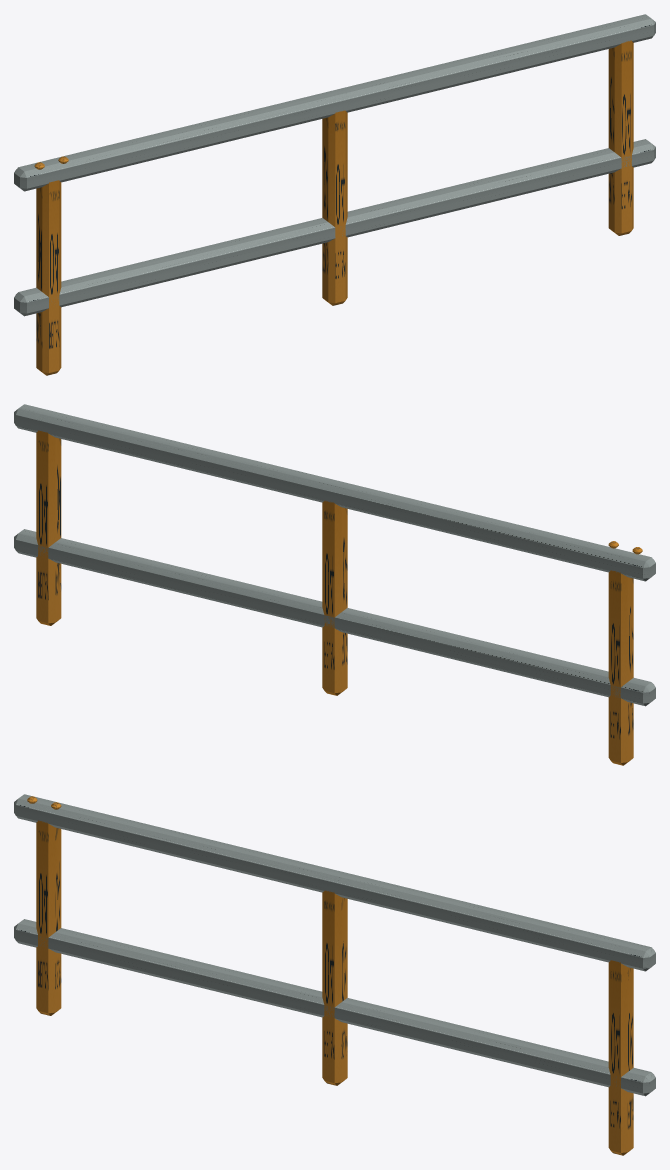
Rendered from railing_4m_LOD0.obj.
The picture shows the model from 3 angles, top to bottom: view 1: azimuth 30°, elevation 25°; view 2: azimuth 150°, elevation 25°; view 3: azimuth 330°, elevation 25°; orthographic projection.
Parts seen in each view (by area): view 1: L02_railing_4m_LOD0; view 2: L02_railing_4m_LOD0; view 3: L02_railing_4m_LOD0.
Part boxes in pixels (left/top/right/bottom): L02_railing_4m_LOD0: left=14, top=14, right=655, bottom=375; L02_railing_4m_LOD0: left=14, top=404, right=655, bottom=765; L02_railing_4m_LOD0: left=14, top=794, right=655, bottom=1155.
Size of the model in its own units: 4 by 1.29 by 0.128.
1 material, 1 textured.
